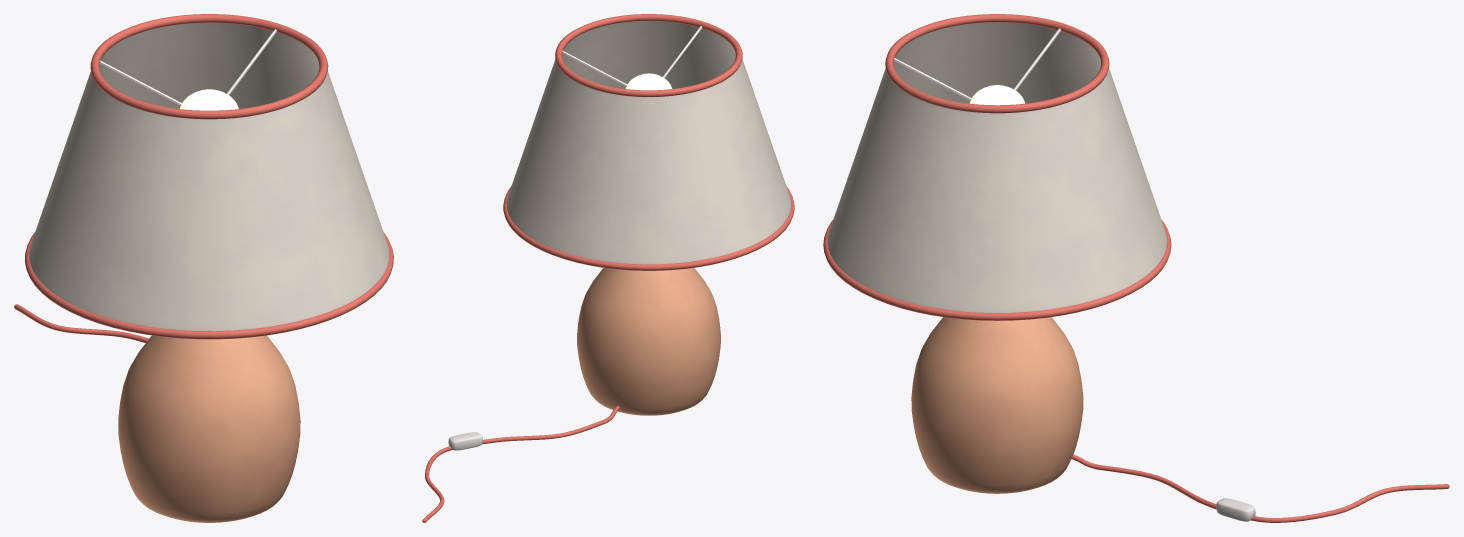
File: table-lamp.glb
The picture shows the model from 3 angles, left to right: view 1: azimuth 30°, elevation 25°; view 2: azimuth 150°, elevation 25°; view 3: azimuth 270°, elevation 25°; orthographic projection. The views are drawn at different scales.
Parts seen in each view (by area): view 1: table-lamp_body, table-lamp_bulb; view 2: table-lamp_body, table-lamp_bulb; view 3: table-lamp_body, table-lamp_bulb.
Boxes of the visible parts, x1=… form: table-lamp_body: x1=14, y1=14, x2=393, y2=522; table-lamp_bulb: x1=180, y1=89, x2=238, y2=110; table-lamp_body: x1=422, y1=14, x2=794, y2=522; table-lamp_bulb: x1=625, y1=73, x2=672, y2=90; table-lamp_body: x1=823, y1=14, x2=1449, y2=522; table-lamp_bulb: x1=969, y1=85, x2=1025, y2=105.
Bounding box in the file's own units: 0.3484 × 0.45 × 0.6268.
2 materials, 1 textured.
